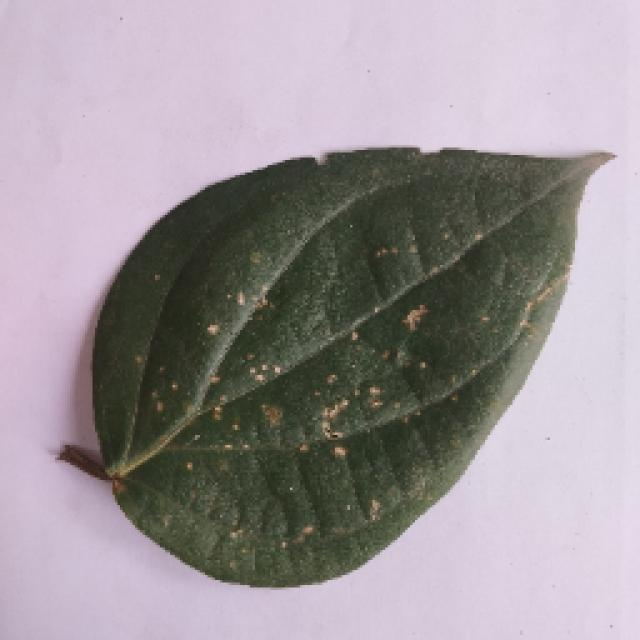pollu-disease: (50, 145, 618, 593)
